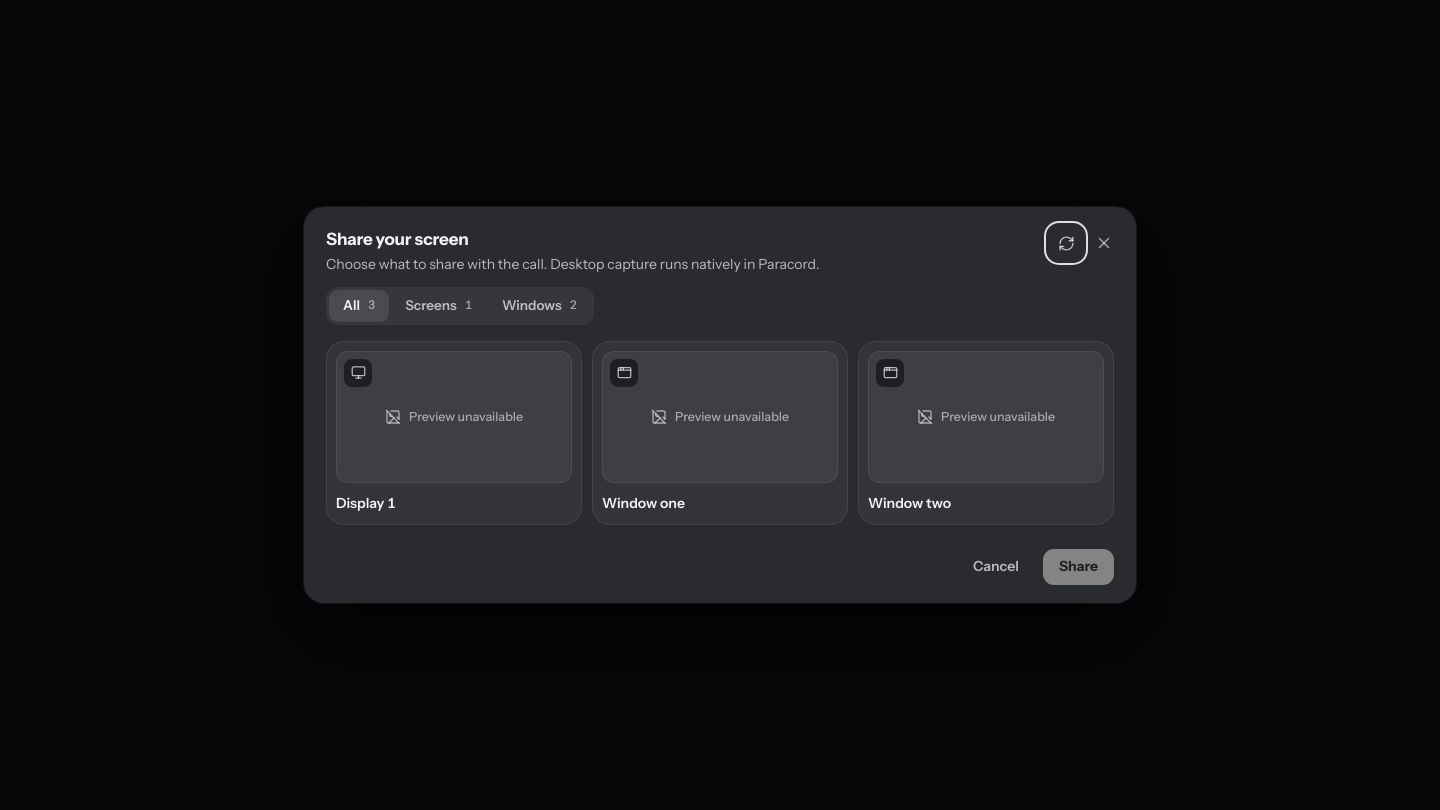
Scenario: ScreenSharePickerModal › filters by kind and counts each
Expected: the tab "All 3" is shown, [329,290,389,322]
Step 1. Click the tab "Windows 2" → (539, 306), box [488,290,591,322]
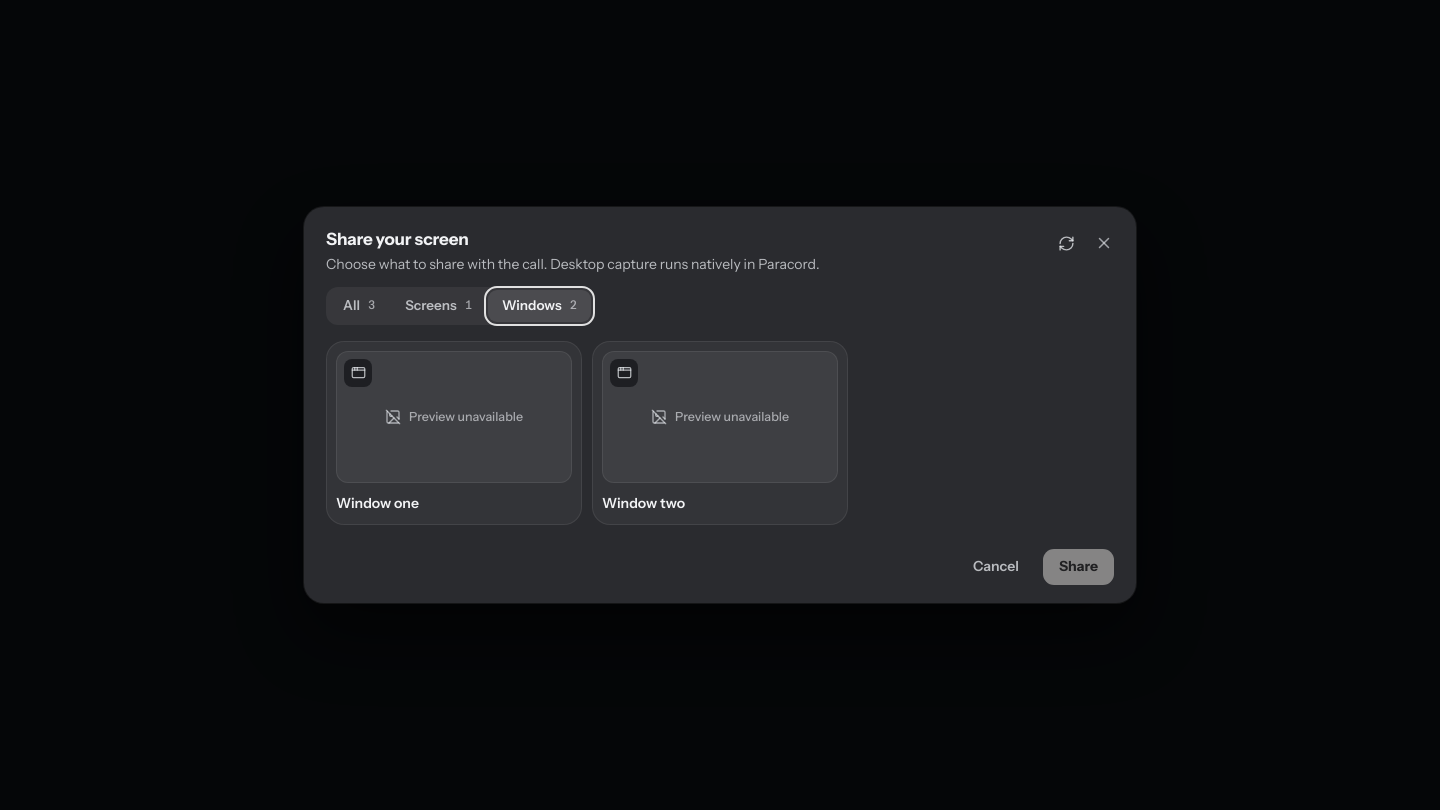
Expected: the number of radio buttons is 2, [326,340,582,525]; [592,340,848,525]
Step 2. Click the tab "Screens 1" → (438, 306), box [391,290,486,322]
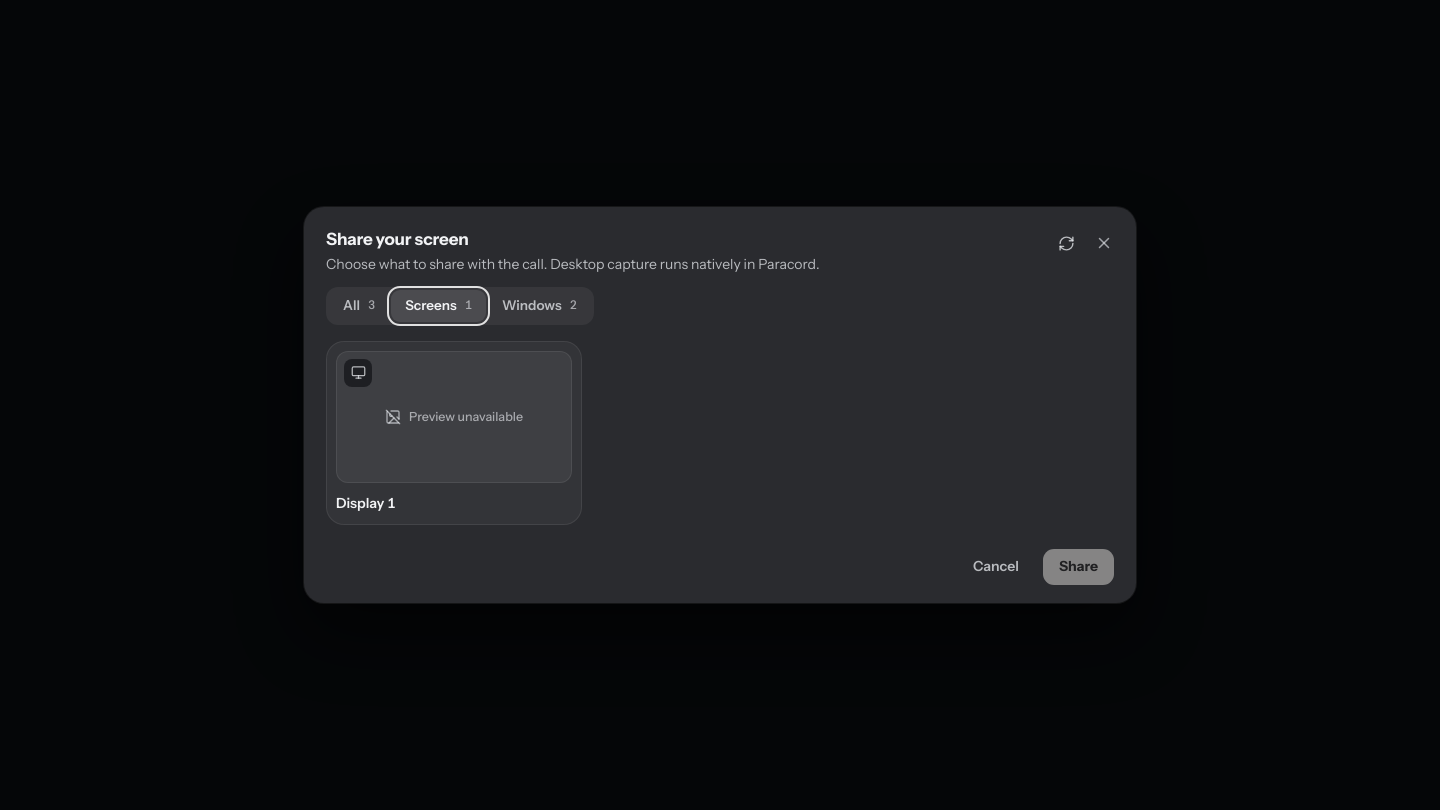
Expected: the number of radio buttons is 1, [326,340,582,525]
